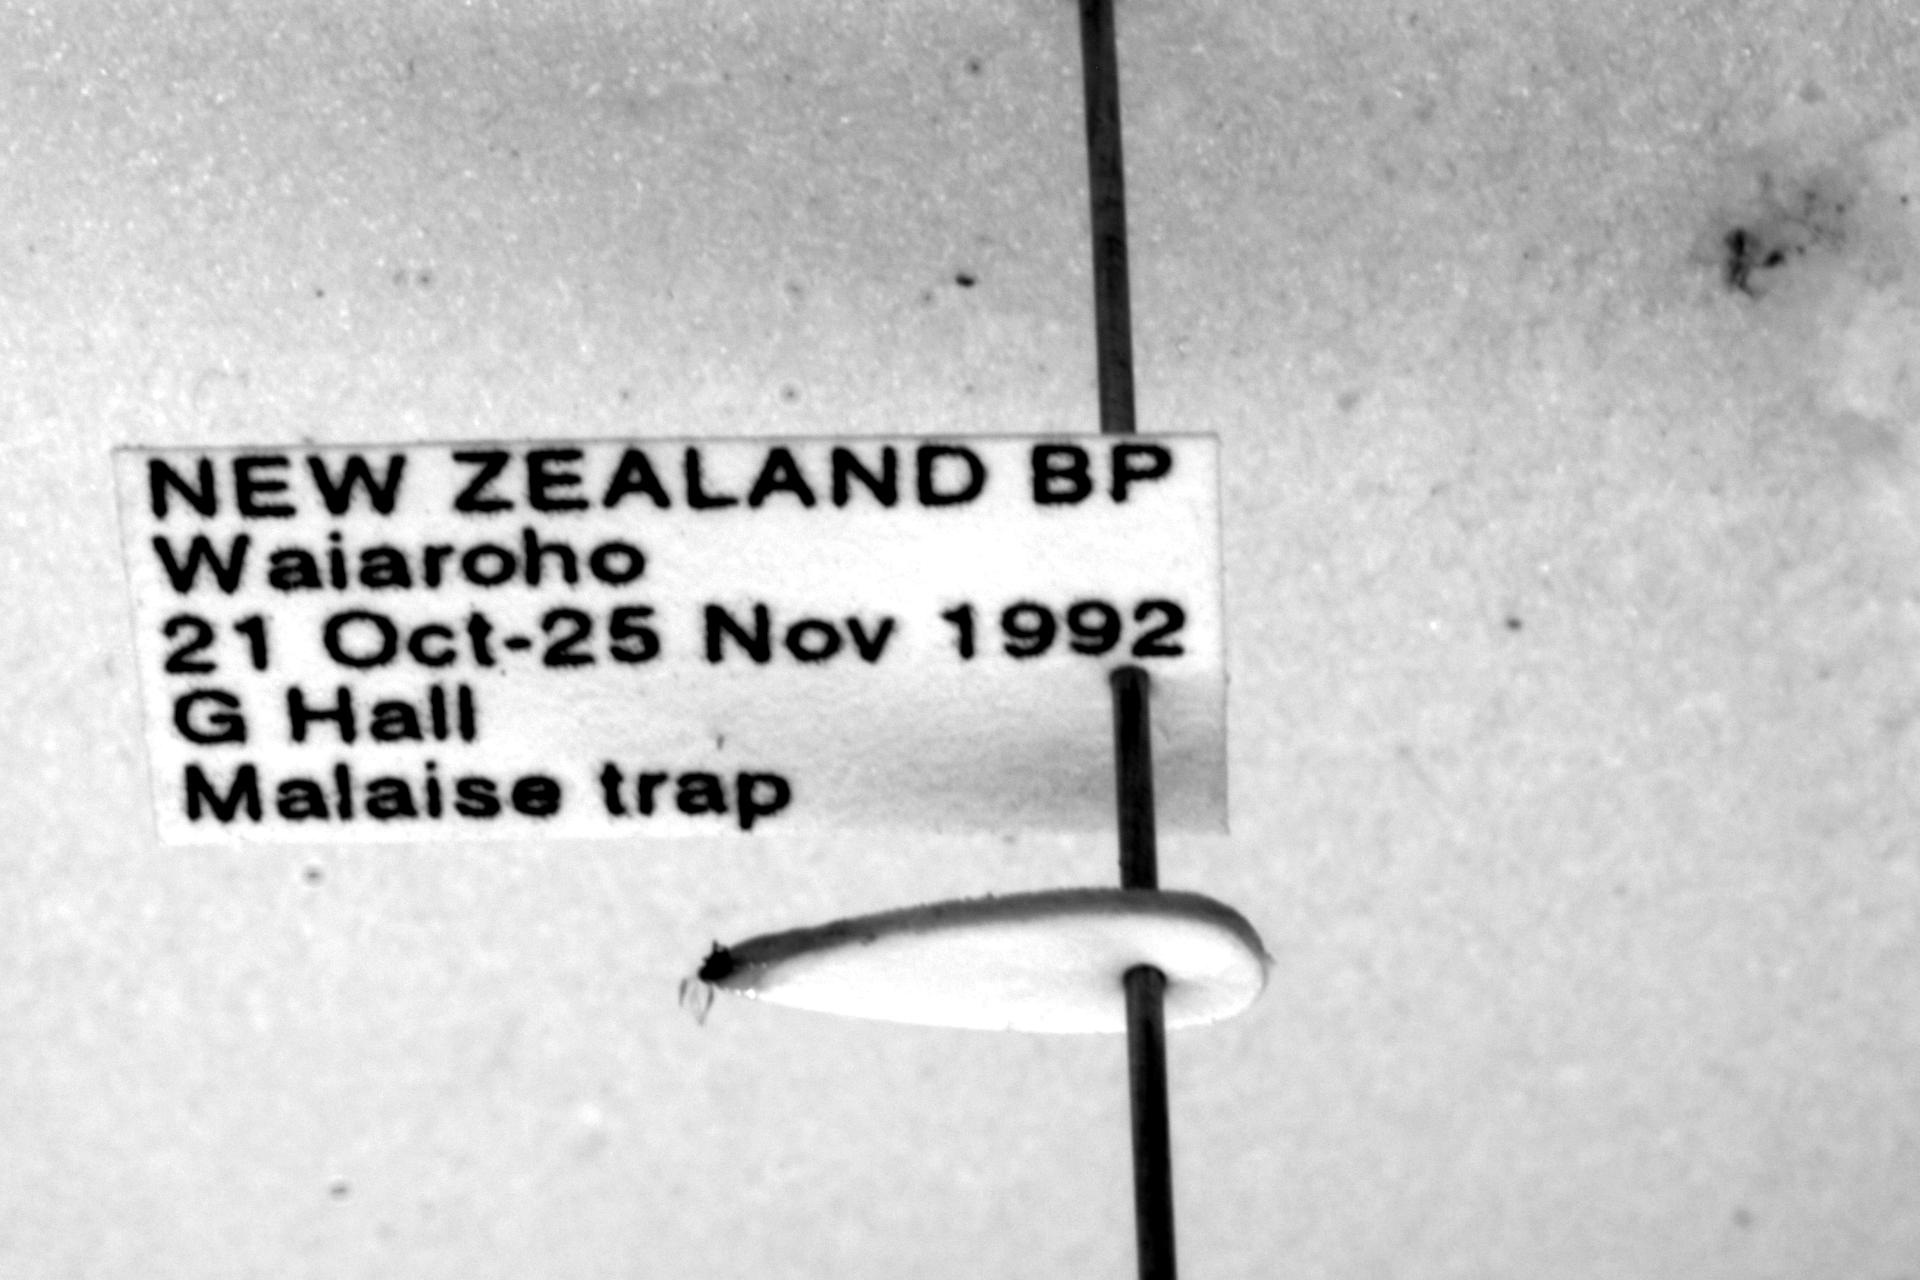typed_label: (116, 435, 1226, 840)
